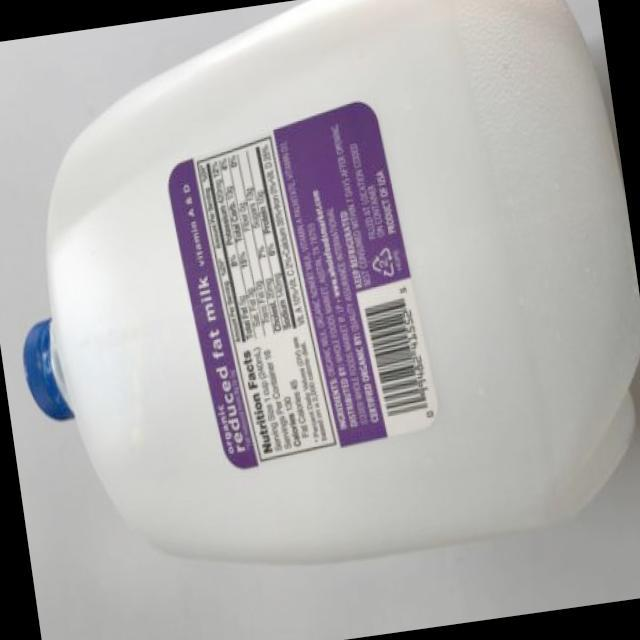HDPE Plastic: (17, 0, 640, 565)
